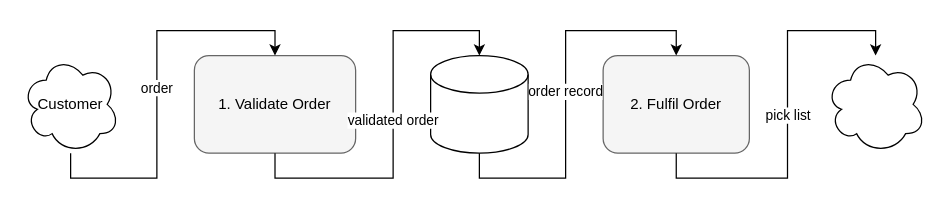
This 948x210 diagram has some shape labels left out. Here are the shapes that lost their labels. From the top down, the centre of each, then its label:
At (478,103): "Orders".
At (875,103): "Warehouse".
